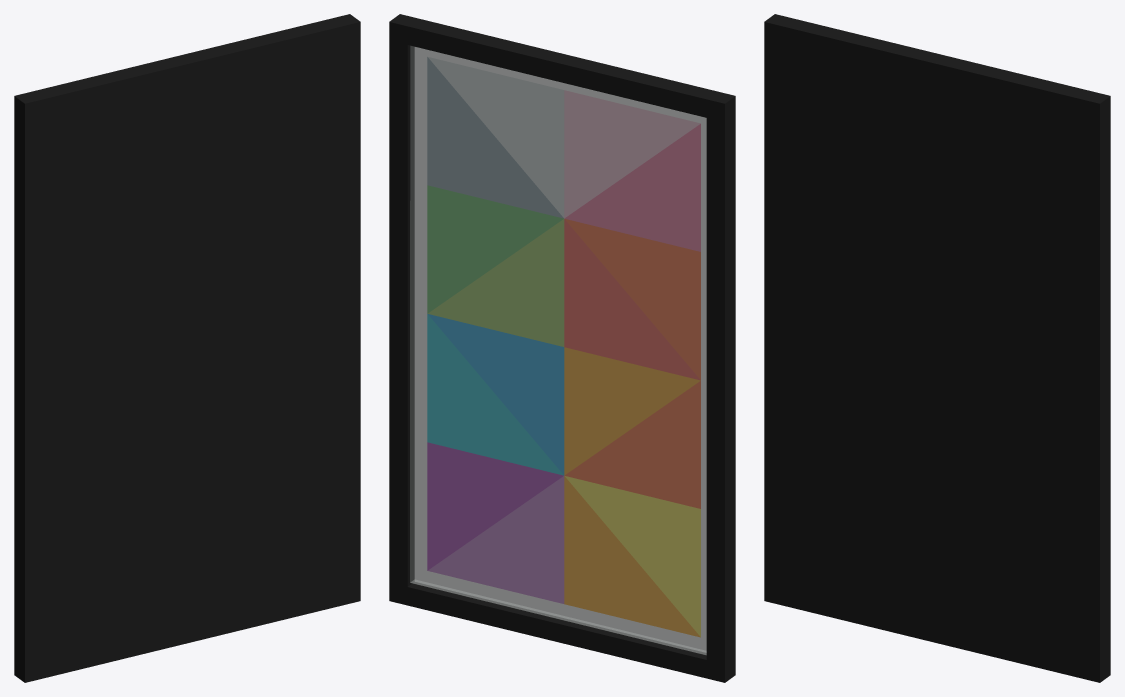
The model's file is WallArt06.glb.
3 renders of one model, left to right at view 1: azimuth 30°, elevation 25°; view 2: azimuth 150°, elevation 25°; view 3: azimuth 330°, elevation 25°, orthographic.
Visible parts, largest first — view 1: Node; view 2: Node; view 3: Node.
Boxes of the visible parts, bbox=[...] form: Node: bbox=[14, 14, 360, 682]; Node: bbox=[389, 14, 735, 682]; Node: bbox=[764, 14, 1110, 682].
Size of the model in its own units: 0.54 by 0.89 by 0.03.
2 materials, 2 textured.
